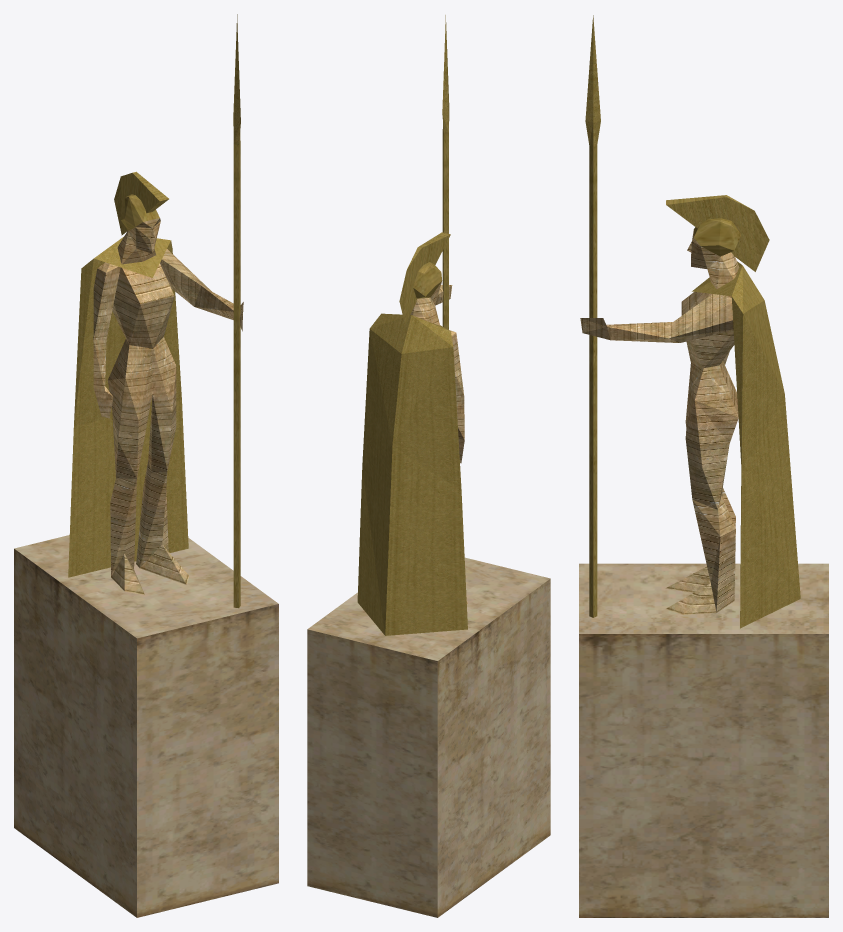
File: mun_tato_guild_statue_freestand_s01_l0.fbx
The picture shows the model from 3 angles, left to right: view 1: azimuth 30°, elevation 25°; view 2: azimuth 150°, elevation 25°; view 3: azimuth 270°, elevation 25°; orthographic projection. The views are drawn at different scales.
Parts seen in each view (by area): view 1: mesh_node; view 2: mesh_node; view 3: mesh_node.
Boxes of the visible parts, x1,y1,x2,y2 form: mesh_node: (14,14,278,917); mesh_node: (307,15,550,917); mesh_node: (579,15,828,917).
Bounding box in the file's own units: 2 × 11.75 × 3.
